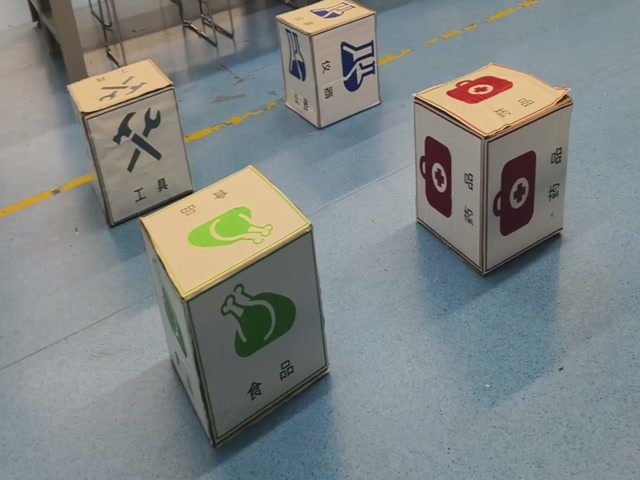Cube_food: (138, 163, 313, 303)
Cube_ins: (273, 0, 378, 37)
Cube_medicine: (411, 57, 573, 145)
Cube_tool: (68, 58, 173, 120)
